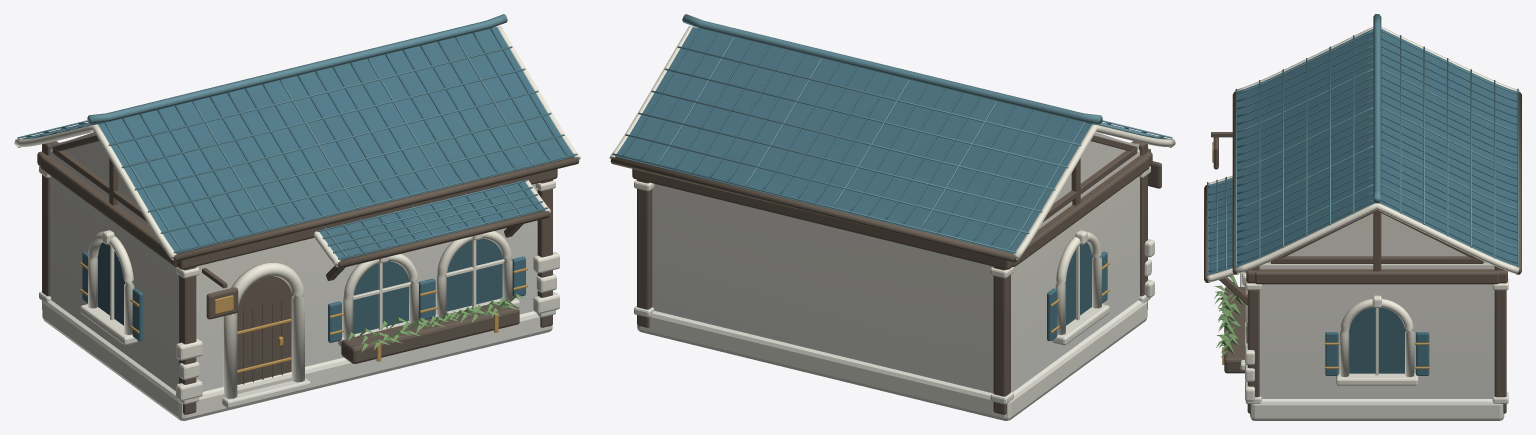
Rendered from shop.glb.
3 views of the same model, side by side, from view 1: azimuth 30°, elevation 25°; view 2: azimuth 150°, elevation 25°; view 3: azimuth 270°, elevation 25° (orthographic). The views are drawn at different scales.
Parts seen in each view (by area): view 1: Mineral blue roof slate, Carved pale limestone, Weathered walnut beams, Sunwashed ivory plaster, Sunlit blue slate edges, Dusky blue window, Garden foliage, Warm brass accents; view 2: Mineral blue roof slate, Sunwashed ivory plaster, Carved pale limestone, Weathered walnut beams, Sunlit blue slate edges, Dusky blue window; view 3: Mineral blue roof slate, Sunwashed ivory plaster, Carved pale limestone, Weathered walnut beams, Sunlit blue slate edges, Dusky blue window, Garden foliage.
Part boxes in pixels (x1,y1,x2,y2): Mineral blue roof slate: (22, 27, 574, 342); Carved pale limestone: (14, 26, 580, 420); Weathered walnut beams: (17, 124, 579, 414); Sunwashed ivory plaster: (50, 132, 537, 391); Sunlit blue slate edges: (17, 14, 577, 259); Dusky blue window: (97, 238, 503, 333); Garden foliage: (348, 294, 526, 351); Warm brass accents: (80, 262, 527, 373); Mineral blue roof slate: (615, 27, 1167, 340); Sunwashed ivory plaster: (652, 132, 1139, 393); Carved pale limestone: (609, 26, 1175, 420); Weathered walnut beams: (610, 122, 1172, 414); Sunlit blue slate edges: (612, 14, 1172, 253); Dusky blue window: (1065, 242, 1092, 325); Mineral blue roof slate: (1208, 29, 1517, 375); Sunwashed ivory plaster: (1259, 213, 1494, 398); Carved pale limestone: (1207, 27, 1519, 420); Weathered walnut beams: (1204, 91, 1521, 413); Sunlit blue slate edges: (1207, 14, 1518, 275); Dusky blue window: (1349, 307, 1406, 373); Garden foliage: (1214, 275, 1243, 357).
Bounding box in the file's own units: 6.46 × 3.87 × 4.74.
